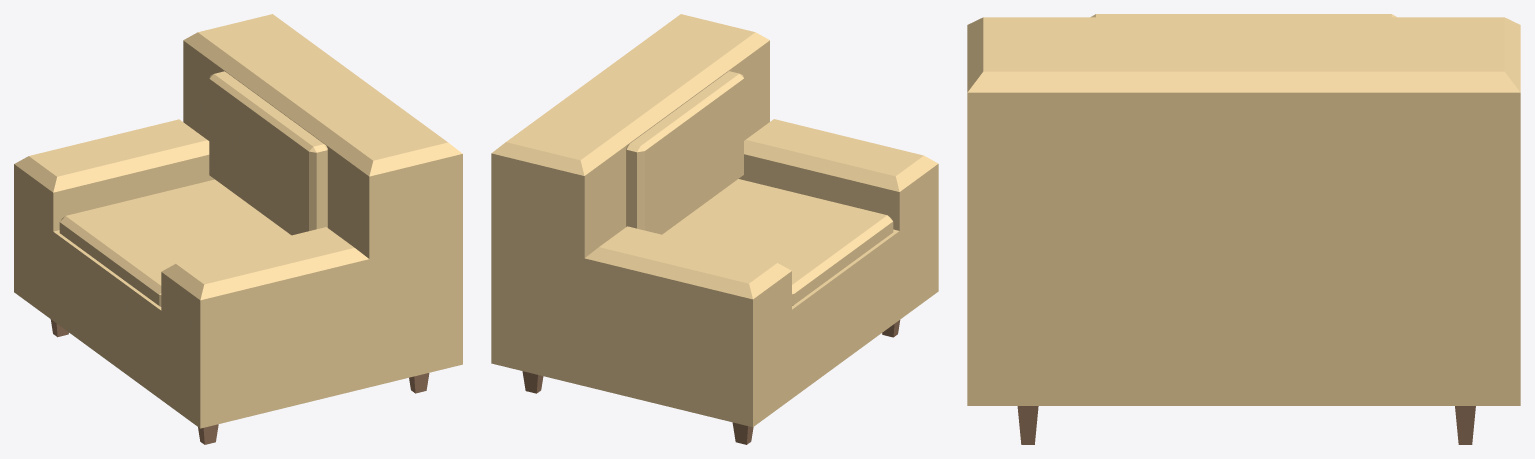
Rendered from Sala_Sillon_06.fbx.
The picture shows the model from 3 angles, left to right: view 1: azimuth 30°, elevation 25°; view 2: azimuth 150°, elevation 25°; view 3: azimuth 270°, elevation 25°; orthographic projection. The views are drawn at different scales.
Parts seen in each view (by area): view 1: sillon; view 2: sillon; view 3: sillon.
Part boxes in pixels (left/top/right/bottom): sillon: left=14, top=14, right=462, bottom=444; sillon: left=491, top=14, right=938, bottom=444; sillon: left=967, top=14, right=1520, bottom=444.
Size of the model in its own units: 54.52 by 50.74 by 67.
2 materials, 2 textured.
